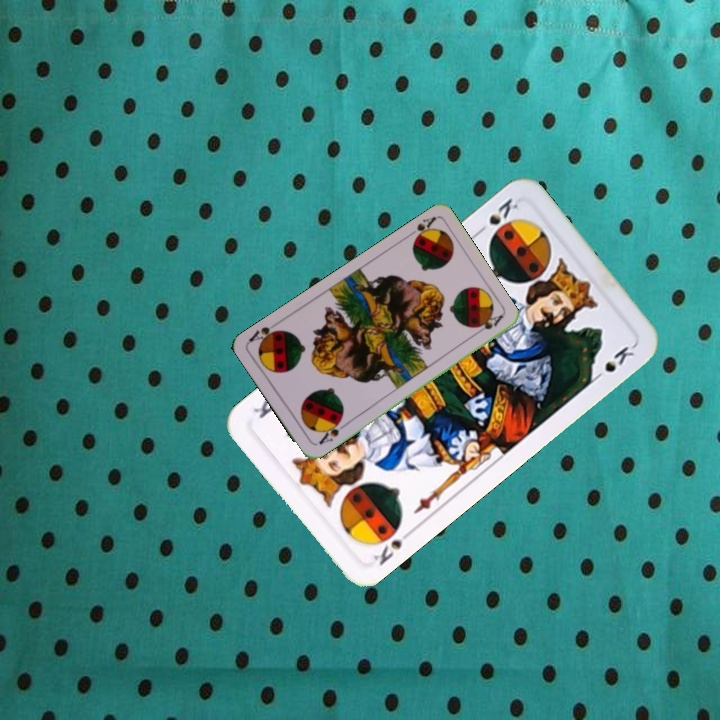SA: (402, 213, 439, 246), (315, 416, 349, 448)
SK: (471, 194, 521, 238), (369, 525, 416, 569)
